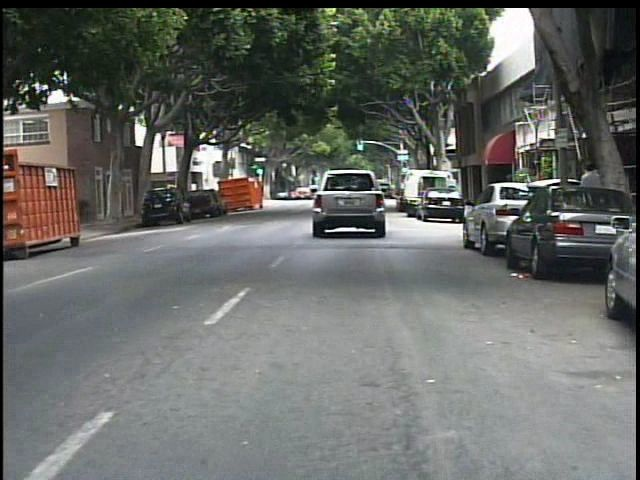person: (574, 158, 606, 240)
